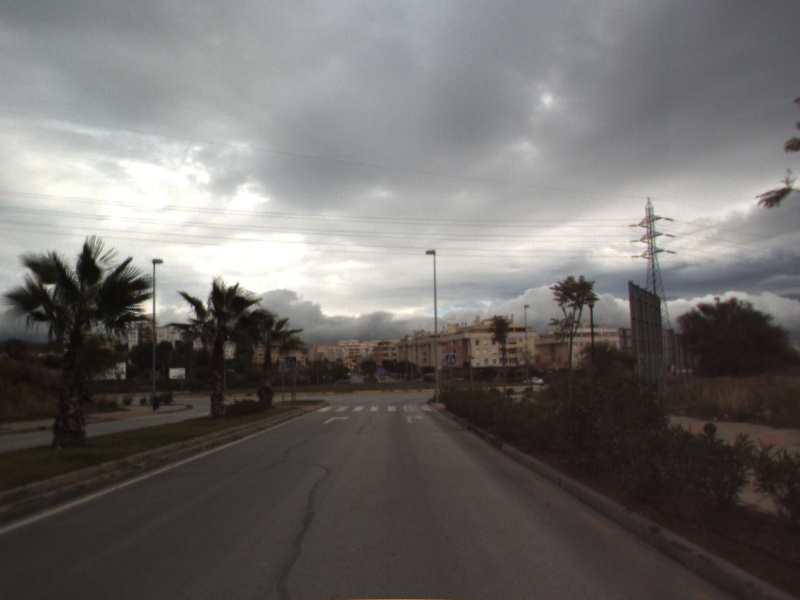RIGHT: (322, 413, 352, 426), (404, 412, 427, 425)
